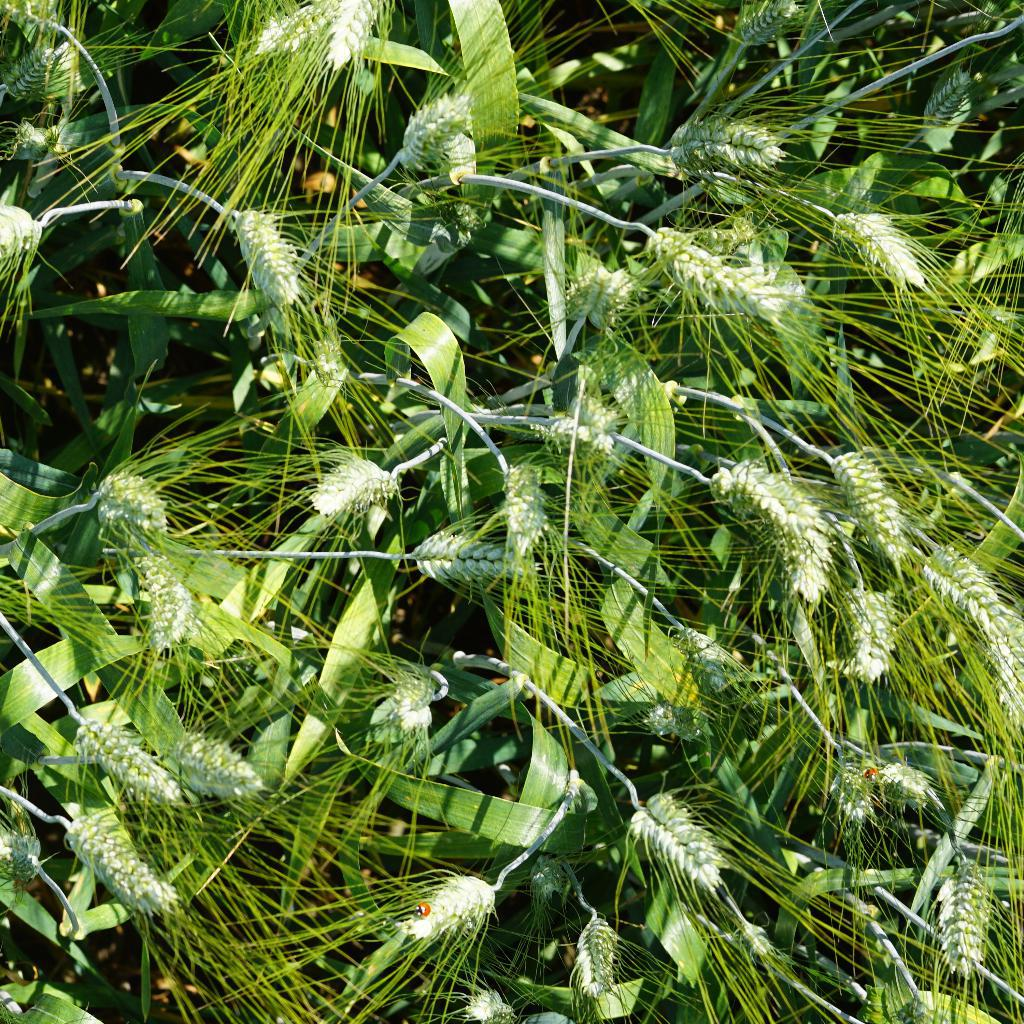0-0: (640, 221, 825, 341), (55, 813, 188, 931), (681, 455, 833, 544), (815, 446, 915, 578), (623, 786, 736, 899), (72, 707, 187, 815), (905, 533, 1012, 642), (389, 865, 511, 957), (822, 206, 938, 302), (397, 525, 552, 595), (211, 202, 307, 313), (155, 717, 270, 806), (765, 471, 840, 604), (655, 113, 795, 181), (390, 80, 492, 173), (79, 467, 182, 554), (930, 848, 991, 984), (306, 446, 409, 525), (127, 551, 200, 657), (835, 579, 901, 685), (244, 0, 356, 58), (320, 0, 398, 77), (535, 394, 621, 463), (976, 603, 1024, 723), (565, 908, 624, 1005), (493, 465, 553, 559), (552, 266, 640, 328), (819, 750, 880, 838), (914, 64, 984, 140), (671, 619, 738, 697), (856, 753, 940, 814), (733, 0, 812, 57), (0, 196, 59, 270), (679, 217, 772, 263), (0, 45, 61, 114), (380, 671, 441, 733), (637, 693, 704, 746), (0, 818, 47, 887), (424, 193, 487, 244), (301, 333, 348, 388), (454, 986, 522, 1024), (731, 915, 779, 966), (10, 117, 58, 166), (521, 860, 567, 907)
